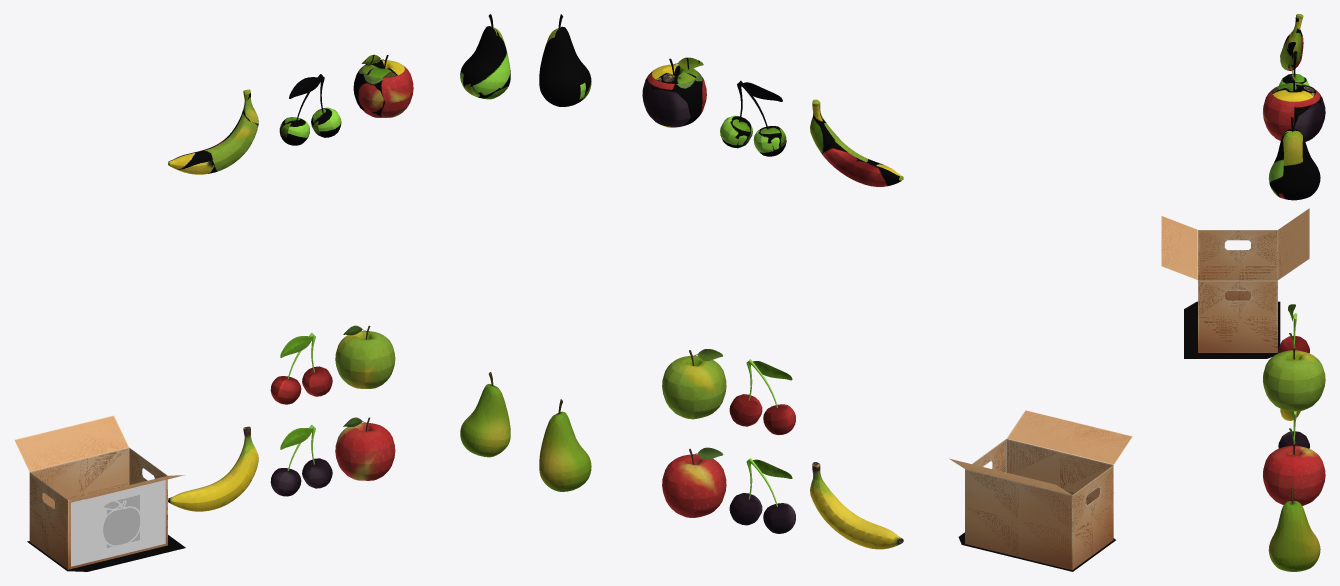
File: items.fbx
3 views of the same model, side by side, from view 1: azimuth 30°, elevation 25°; view 2: azimuth 150°, elevation 25°; view 3: azimuth 270°, elevation 25° (orthographic). The views are drawn at different scales.
Visible parts, largest first — view 1: body, label, lid_2, appleSAVE, apple_green, apple, pear, pearSAVE, banana, bananaSAVE, cherries_red, cherries (+2 smaller); view 2: body, lid_1, apple_green, apple, appleSAVE, pear, pearSAVE, bananaSAVE, banana, cherries_red, cherriesSAVE, cherries (+1 smaller); view 3: body, apple_green, apple, appleSAVE, pearSAVE, pear, lid_1, lid_2, box_shadow, bananaSAVE, cherries_red, cherries (+1 smaller).
Boxes of the visible parts, left/top/right/bottom form: body: left=29, top=447, right=167, bottom=569; label: left=71, top=480, right=165, bottom=566; lid_2: left=14, top=415, right=129, bottom=471; appleSAVE: left=353, top=54, right=413, bottom=117; apple_green: left=335, top=325, right=395, bottom=388; apple: left=335, top=417, right=395, bottom=480; pear: left=460, top=372, right=510, bottom=457; pearSAVE: left=460, top=14, right=510, bottom=99; banana: left=168, top=426, right=258, bottom=511; bananaSAVE: left=168, top=89, right=258, bottom=174; cherries_red: left=270, top=333, right=332, bottom=404; cherries: left=270, top=425, right=332, bottom=496; body: left=965, top=439, right=1113, bottom=570; lid_1: left=1006, top=410, right=1132, bottom=464; apple_green: left=662, top=349, right=726, bottom=419; apple: left=662, top=447, right=726, bottom=517; appleSAVE: left=642, top=57, right=706, bottom=127; pear: left=539, top=399, right=591, bottom=491; pearSAVE: left=539, top=14, right=591, bottom=106; bananaSAVE: left=810, top=99, right=903, bottom=186; banana: left=810, top=462, right=903, bottom=549; cherries_red: left=729, top=359, right=795, bottom=434; cherriesSAVE: left=720, top=80, right=786, bottom=156; cherries: left=729, top=458, right=795, bottom=533; body: left=1198, top=230, right=1277, bottom=352; apple_green: left=1263, top=333, right=1325, bottom=411; apple: left=1263, top=428, right=1325, bottom=505; appleSAVE: left=1263, top=65, right=1325, bottom=141; pearSAVE: left=1268, top=116, right=1320, bottom=200; pear: left=1268, top=487, right=1320, bottom=571; lid_1: left=1161, top=216, right=1197, bottom=280; lid_2: left=1278, top=208, right=1309, bottom=279; box_shadow: left=1184, top=301, right=1280, bottom=358; bananaSAVE: left=1280, top=14, right=1303, bottom=70; cherries_red: left=1278, top=304, right=1309, bottom=353; cherries: left=1278, top=411, right=1309, bottom=448.
Bounding box in the file's own units: 51.06 × 44.05 × 14.4.
4 materials, 4 textured.
